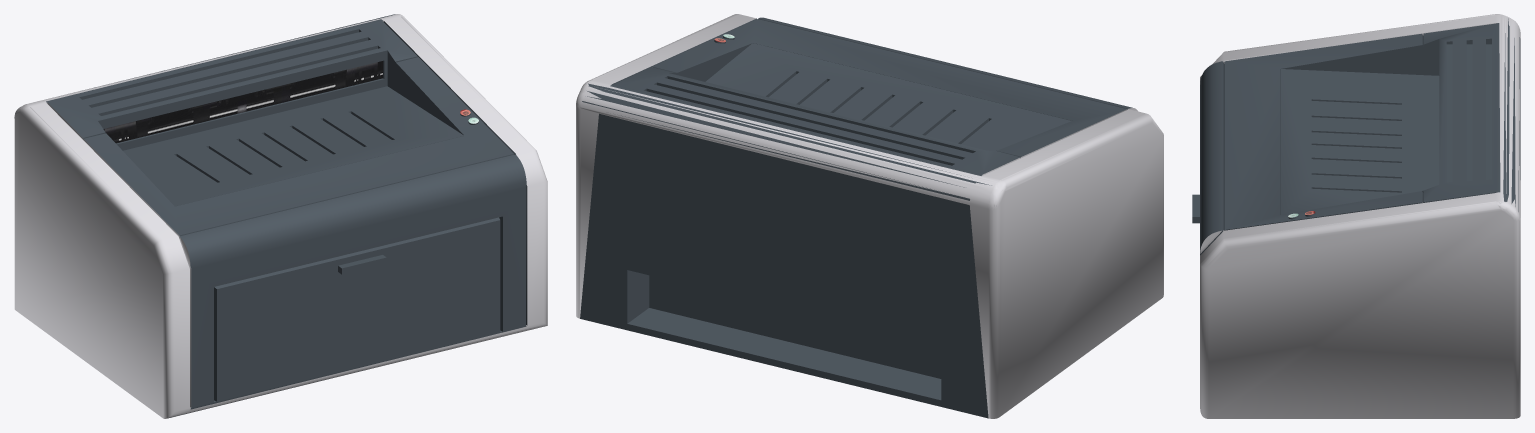
Rendered from Printer.FBX.
3 renders of one model, left to right at view 1: azimuth 30°, elevation 25°; view 2: azimuth 150°, elevation 25°; view 3: azimuth 270°, elevation 25°, orthographic. The views are drawn at different scales.
Visible parts, largest first — view 1: Printer; view 2: Printer; view 3: Printer.
Boxes of the visible parts, x1,y1,x2,y2 form: Printer: (14, 14, 547, 418); Printer: (576, 14, 1163, 418); Printer: (1192, 14, 1520, 418).
Size of the model in its own units: 43.81 by 23.09 by 31.49.
Materials: 1 (1 with a texture image).
